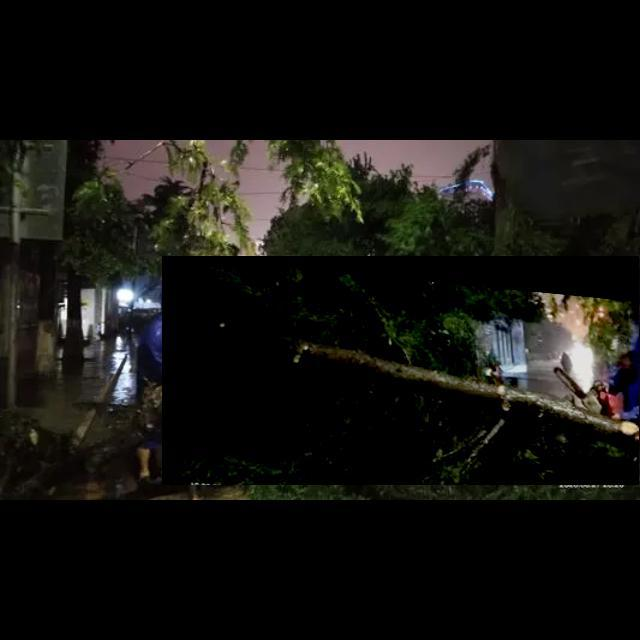fallen_tree: (162, 256, 640, 486)
